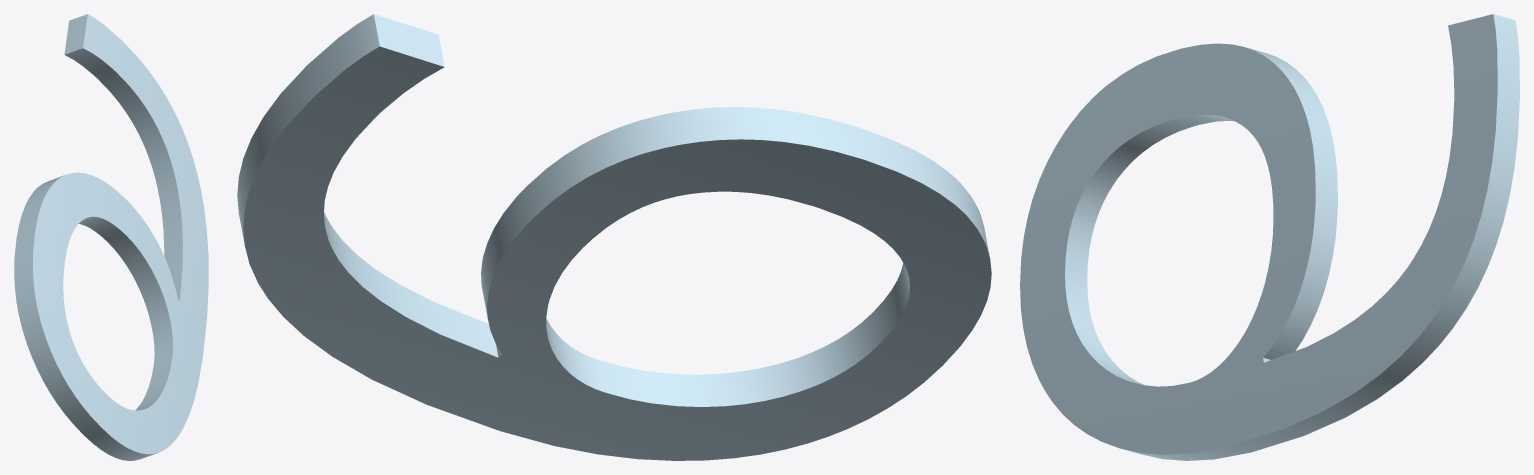
The model's file is Number_9.gltf.
3 renders of one model, left to right at view 1: azimuth 30°, elevation 25°; view 2: azimuth 150°, elevation 25°; view 3: azimuth 270°, elevation 25°, orthographic. The views are drawn at different scales.
Parts seen in each view (by area): view 1: Sub_4_Cell_2_1_Number_9; view 2: Sub_4_Cell_2_1_Number_9; view 3: Sub_4_Cell_2_1_Number_9.
Boxes of the visible parts, <box> form: Sub_4_Cell_2_1_Number_9: <box>14,14,208,460</box>; Sub_4_Cell_2_1_Number_9: <box>237,14,991,460</box>; Sub_4_Cell_2_1_Number_9: <box>1020,14,1519,460</box>.
Bounding box in the file's own units: 0.0188 × 0.0203 × 0.0194.
